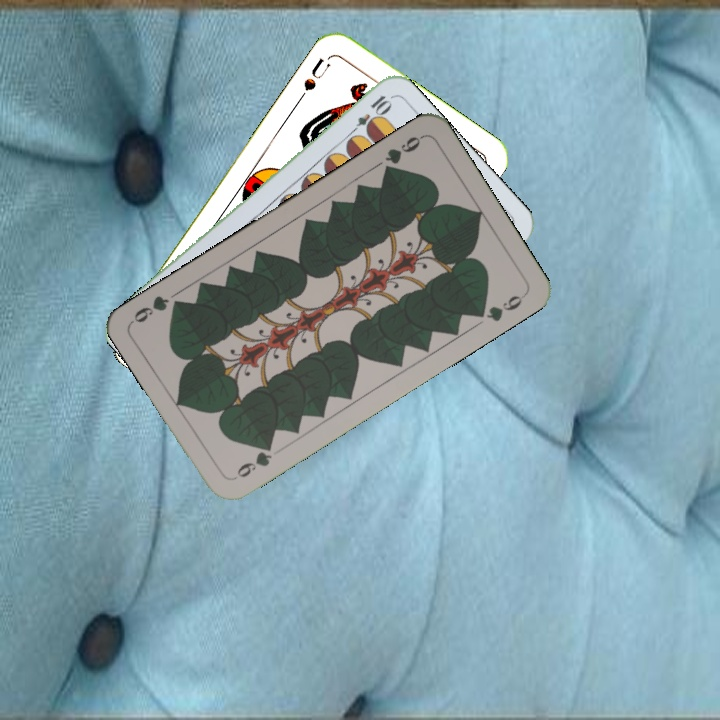E10: (344, 91, 393, 140)
G9: (379, 131, 426, 177), (229, 439, 275, 483)
SU: (294, 52, 333, 104)
